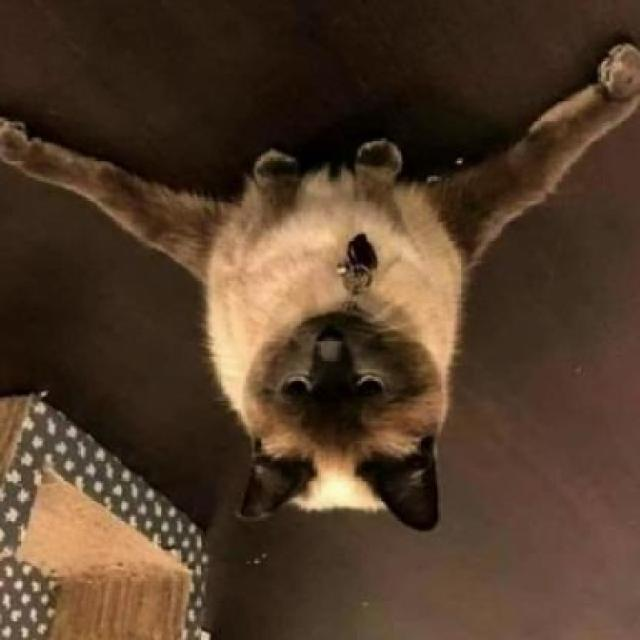cat: (99, 138, 576, 558)
